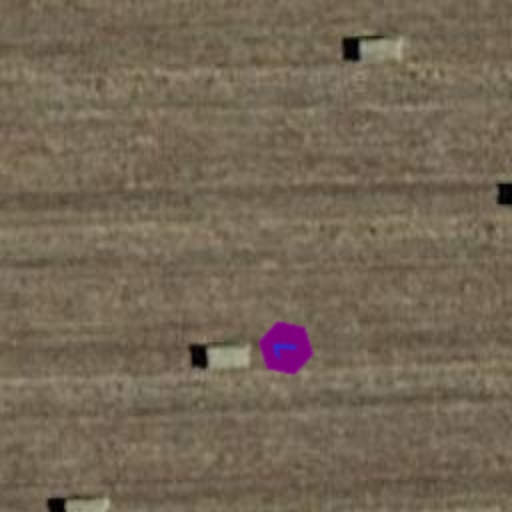hexagon: (250, 312, 322, 384)
